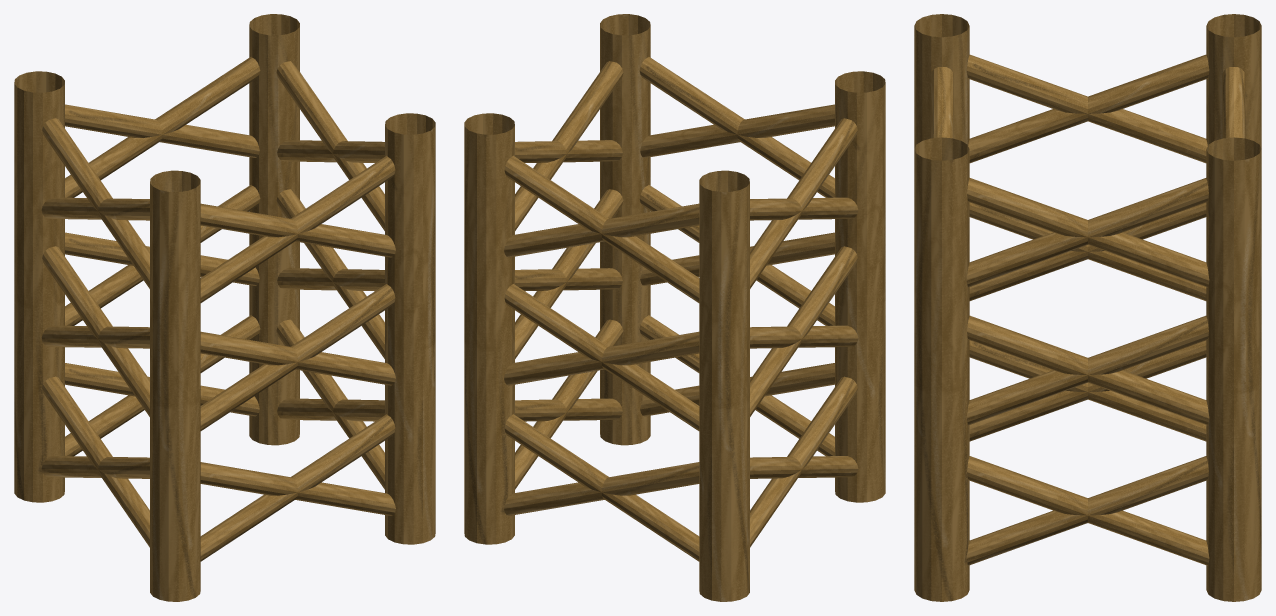
Rendered from GroundPlatformExtension.fbx.
3 views of the same model, side by side, from view 1: azimuth 30°, elevation 25°; view 2: azimuth 150°, elevation 25°; view 3: azimuth 270°, elevation 25° (orthographic). The views are drawn at different scales.
Parts seen in each view (by area): view 1: GroundPlatformExtension; view 2: GroundPlatformExtension; view 3: GroundPlatformExtension.
Boxes of the visible parts, box(x1,y1,x2,y2) form: GroundPlatformExtension: box(14, 14, 435, 601); GroundPlatformExtension: box(464, 14, 885, 601); GroundPlatformExtension: box(914, 14, 1261, 601).
Size of the model in its own units: 143 by 200 by 143.
